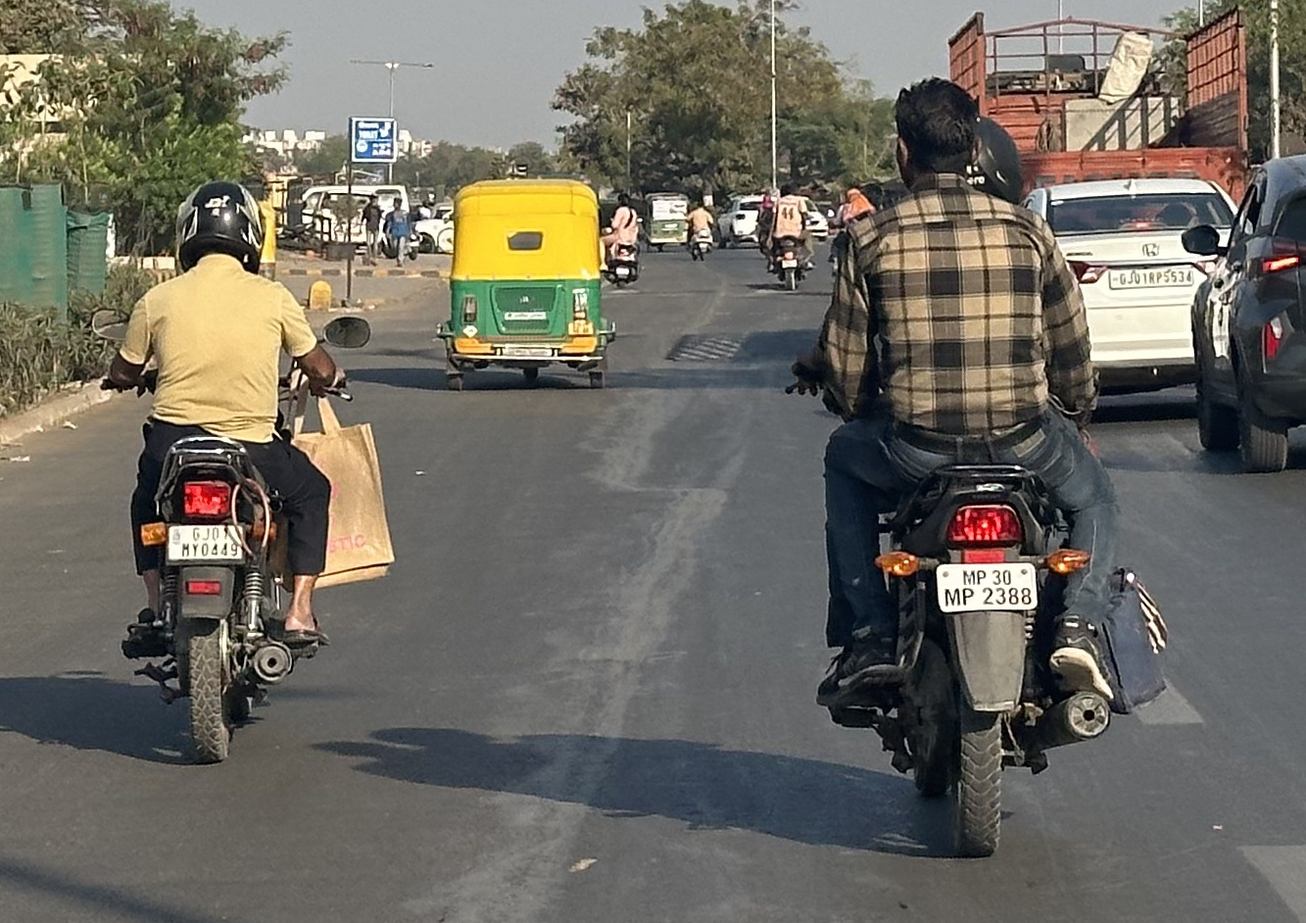BikeWithRider: (778, 73, 1175, 861), (81, 173, 395, 767), (759, 177, 821, 290), (595, 186, 647, 287), (674, 194, 716, 262)
Helmet: (169, 174, 271, 282), (959, 103, 1034, 211)
NoHelmet: (886, 70, 986, 198)
